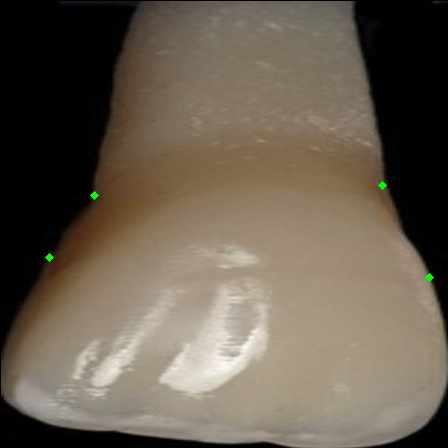coin_1: (382, 185, 402, 205)
coin_2: (429, 277, 448, 297)
coin_3: (94, 195, 114, 215)
coin_4: (49, 257, 69, 277)
